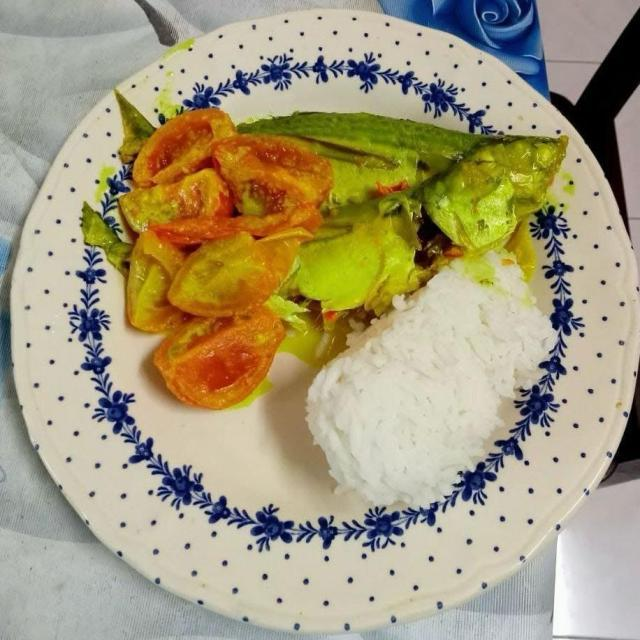Fish: (81, 97, 566, 321)
Plate: (12, 96, 639, 628), (119, 11, 563, 134)
Rice: (298, 270, 563, 516)
Vegetables: (118, 110, 338, 413)
